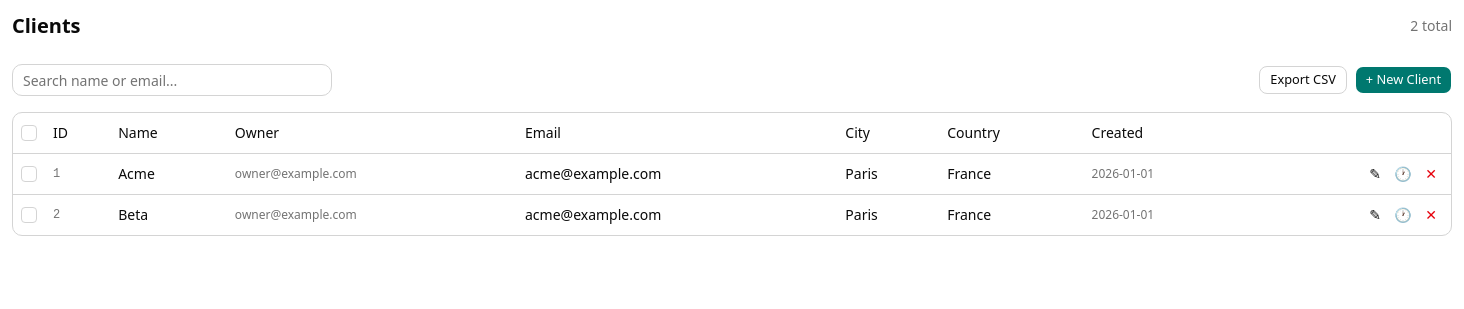
Scenario: AdminClientsTable › selects all rows via the header checkbox and deselects a single row
Expected: the text "Acme" is shown, [110,153,227,194]
Click the checkbox next to "ID" at (29, 133), box [21,125,37,141]
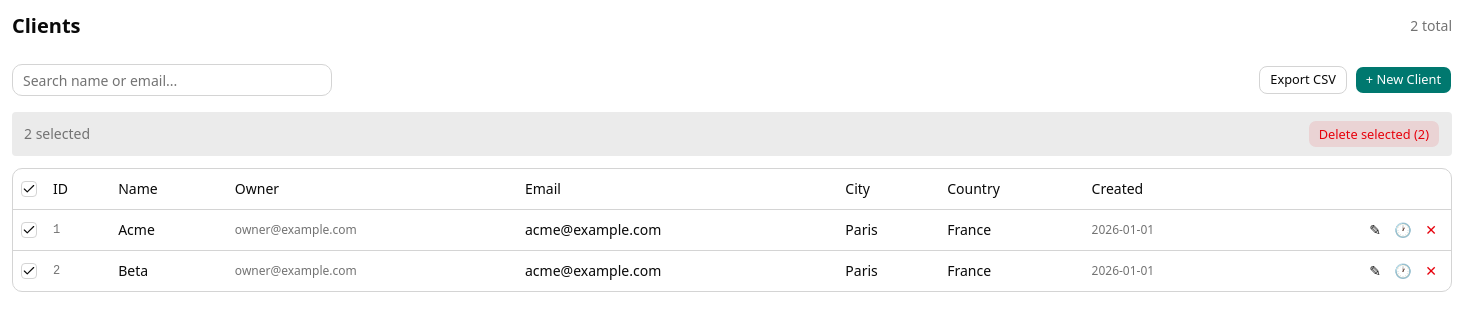
Expected: the text "2 selected" is shown, [24,124,90,144]
Click the 2nd checkbox at (29, 230), box [21,222,37,238]
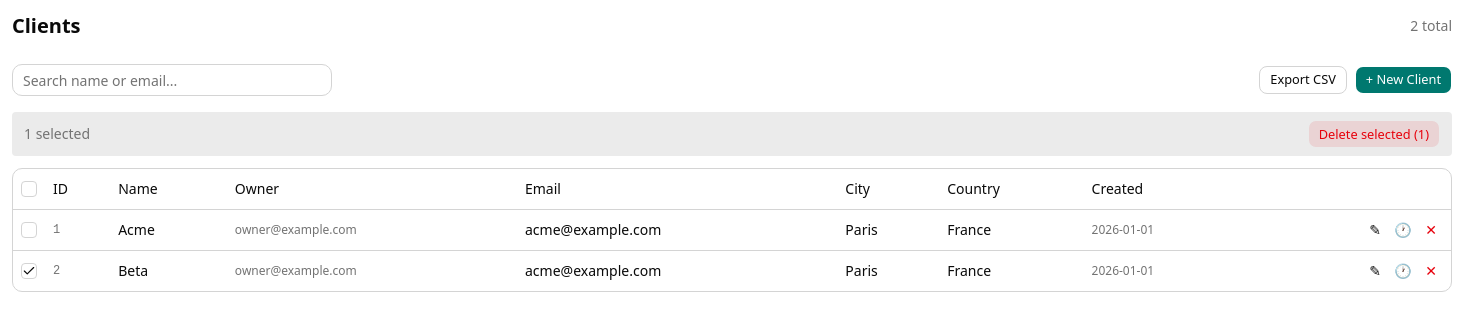
Expected: the text "1 selected" is shown, [24,124,90,144]
Click the checkbox in the row of "Beta" at (29, 270), box [21,262,37,278]
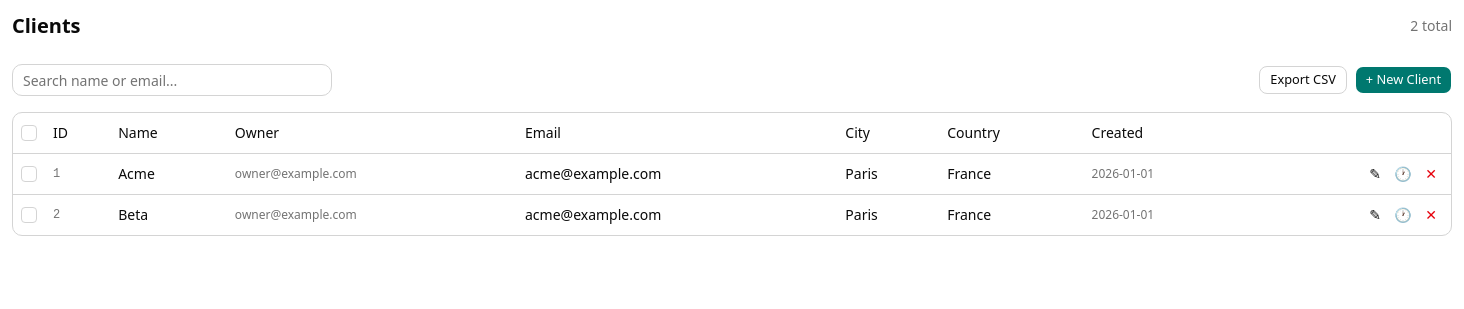
Expected: the text "selected" is gone
